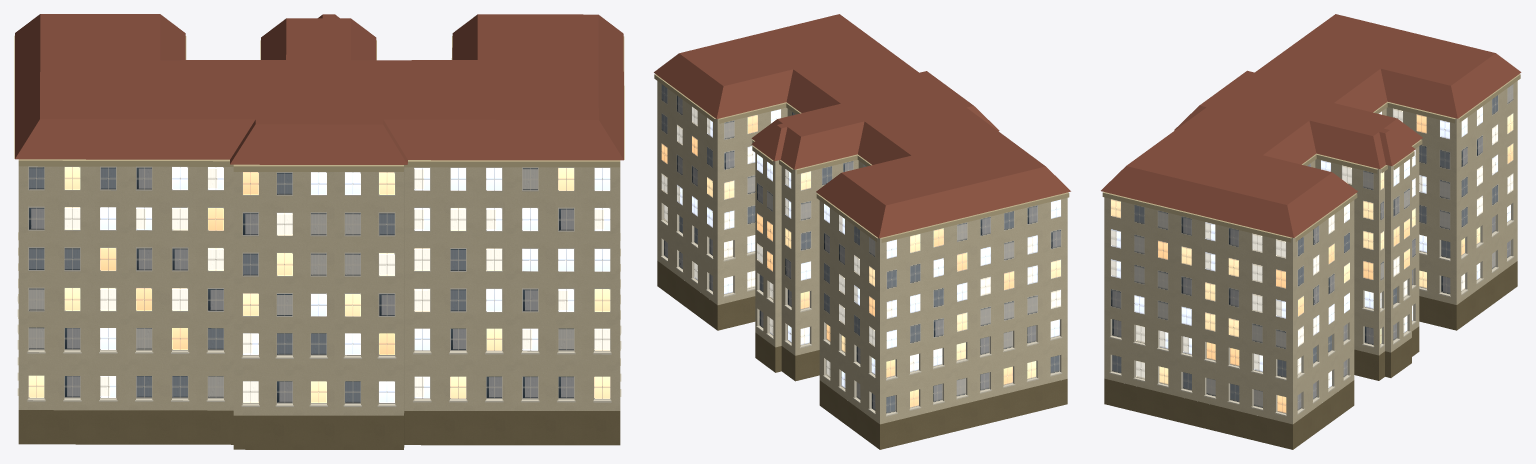
File: sh_hohl.glb
3 views of the same model, side by side, from view 1: azimuth 30°, elevation 25°; view 2: azimuth 150°, elevation 25°; view 3: azimuth 270°, elevation 25° (orthographic). The views are drawn at different scales.
Visible parts, largest first — view 1: sh_hohl; view 2: sh_hohl; view 3: sh_hohl.
Part boxes in pixels (box(x1,y1,x2,y2)): sh_hohl: box(14, 14, 624, 449); sh_hohl: box(654, 14, 1070, 449); sh_hohl: box(1101, 14, 1521, 449).
Bounding box in the file's own units: 53.57 × 27.66 × 44.82.
3 materials, 3 textured.
